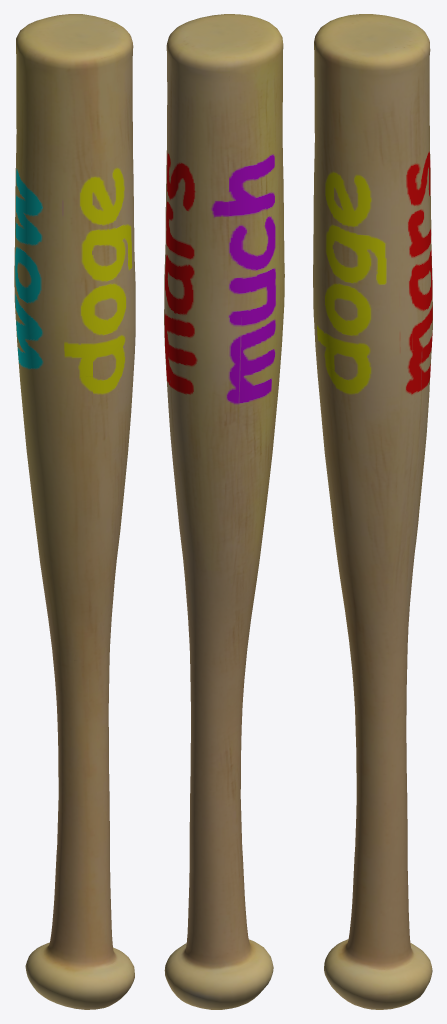
The model's file is bat.glb.
3 views of the same model, side by side, from view 1: azimuth 30°, elevation 25°; view 2: azimuth 210°, elevation 25°; view 3: azimuth 330°, elevation 25° (orthographic).
Visible parts, largest first — view 1: Mesh_0; view 2: Mesh_0; view 3: Mesh_0.
Boxes of the visible parts, x1,y1,x2,y2 form: Mesh_0: (14,14,135,1009); Mesh_0: (164,14,284,1009); Mesh_0: (313,14,432,1009).
Bounding box in the file's own units: 0.1644 × 1.44 × 0.1599.
1 material, 1 textured.
